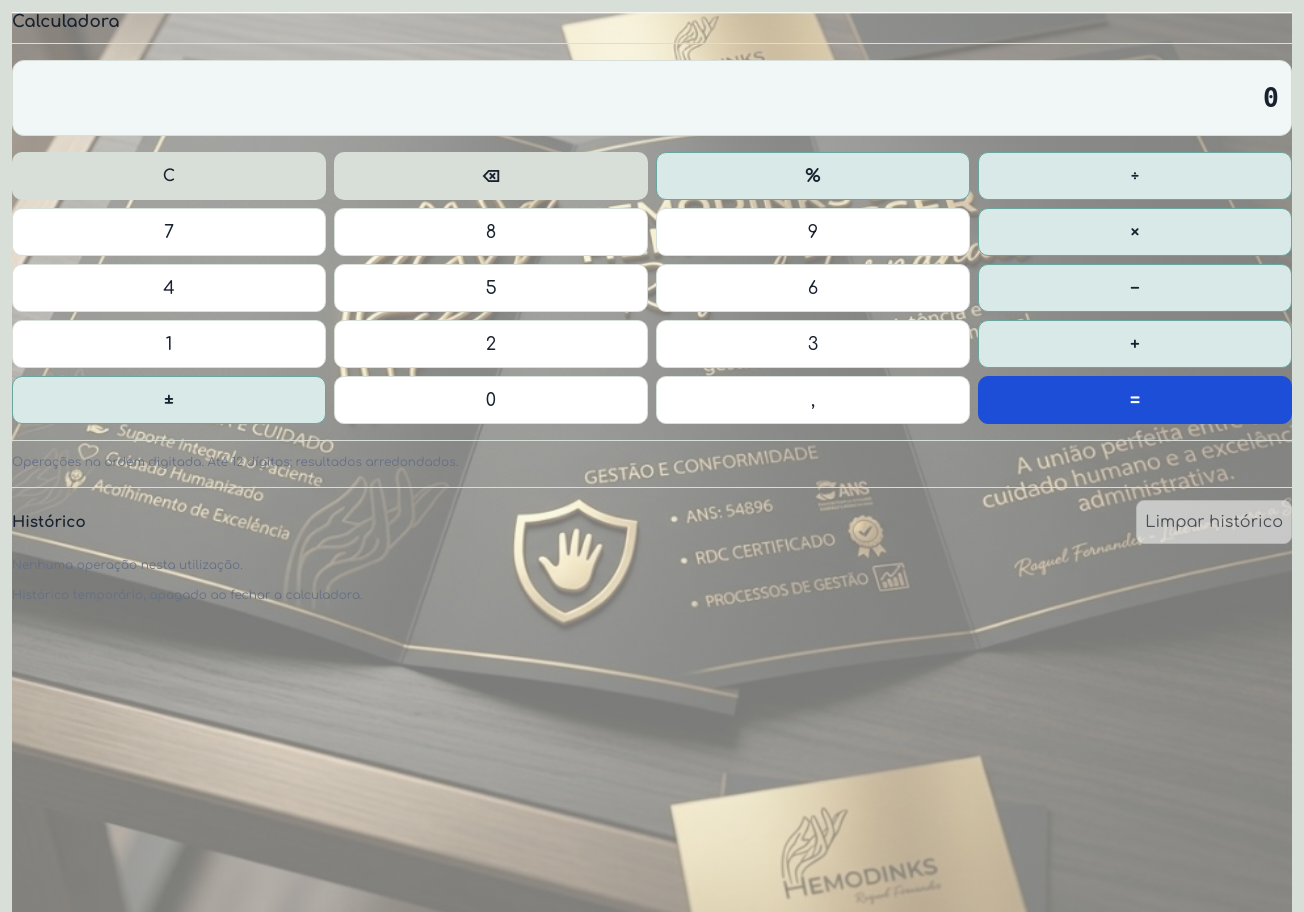
Test case: painel da calculadora › opera por botões e anuncia números com vírgula
The width and height of the screenshot is (1304, 912).
Click the button "1". click: [169, 344]
box: [12,320,326,368]
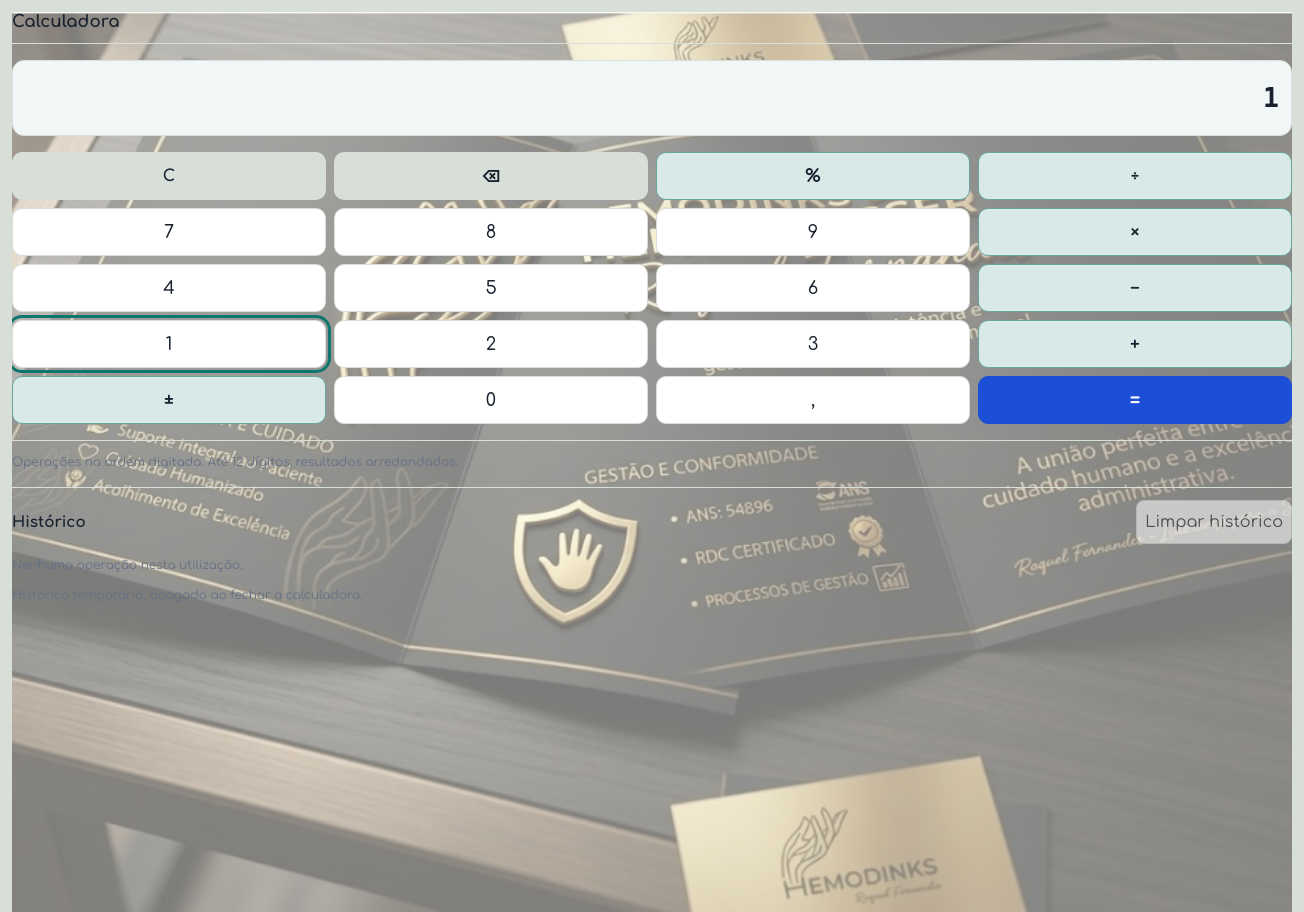
Click the button named "Dividir". click: [1135, 176]
box: [978,152,1292,200]
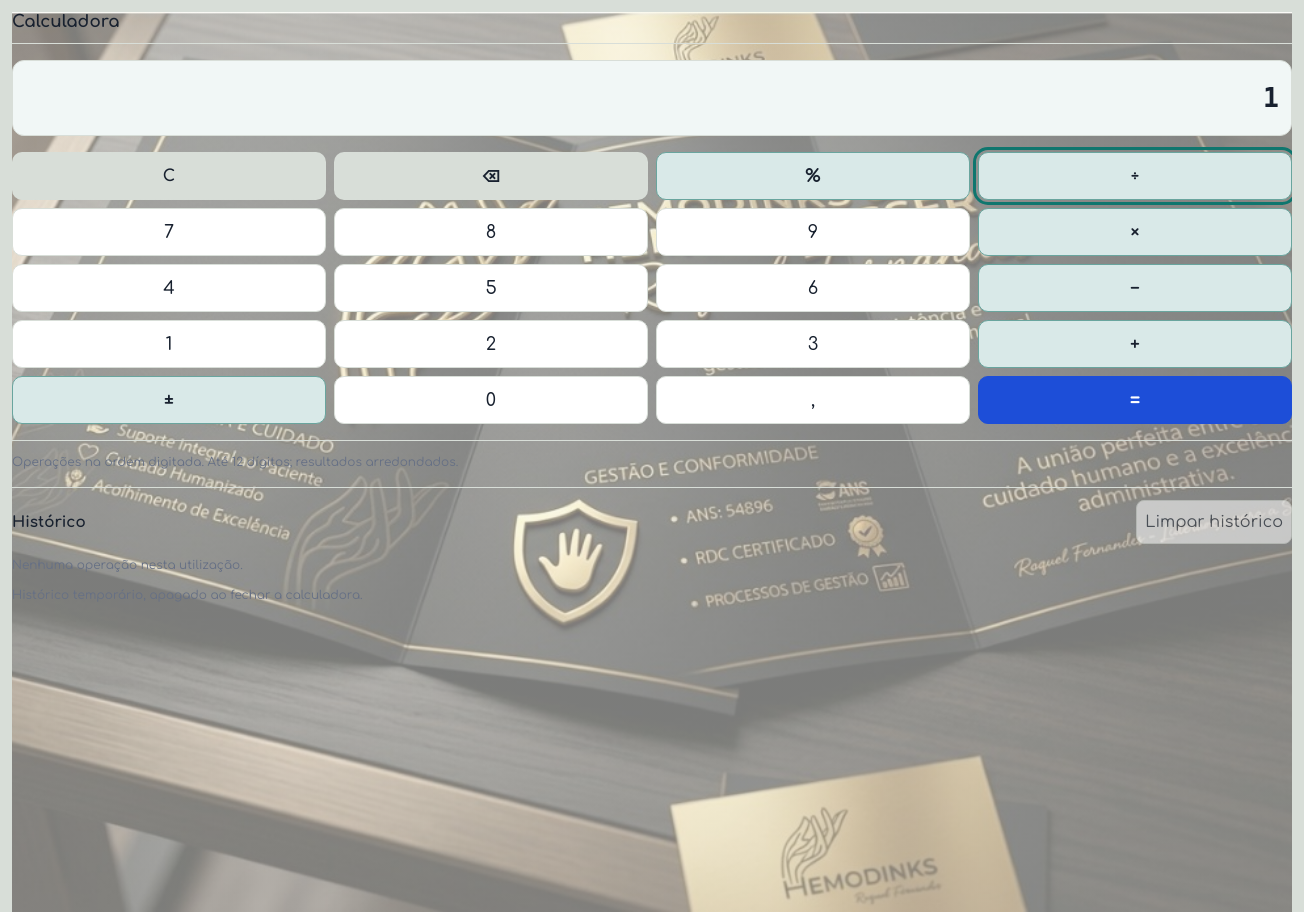
Click the button "2". click: [491, 344]
box: [334,320,648,368]
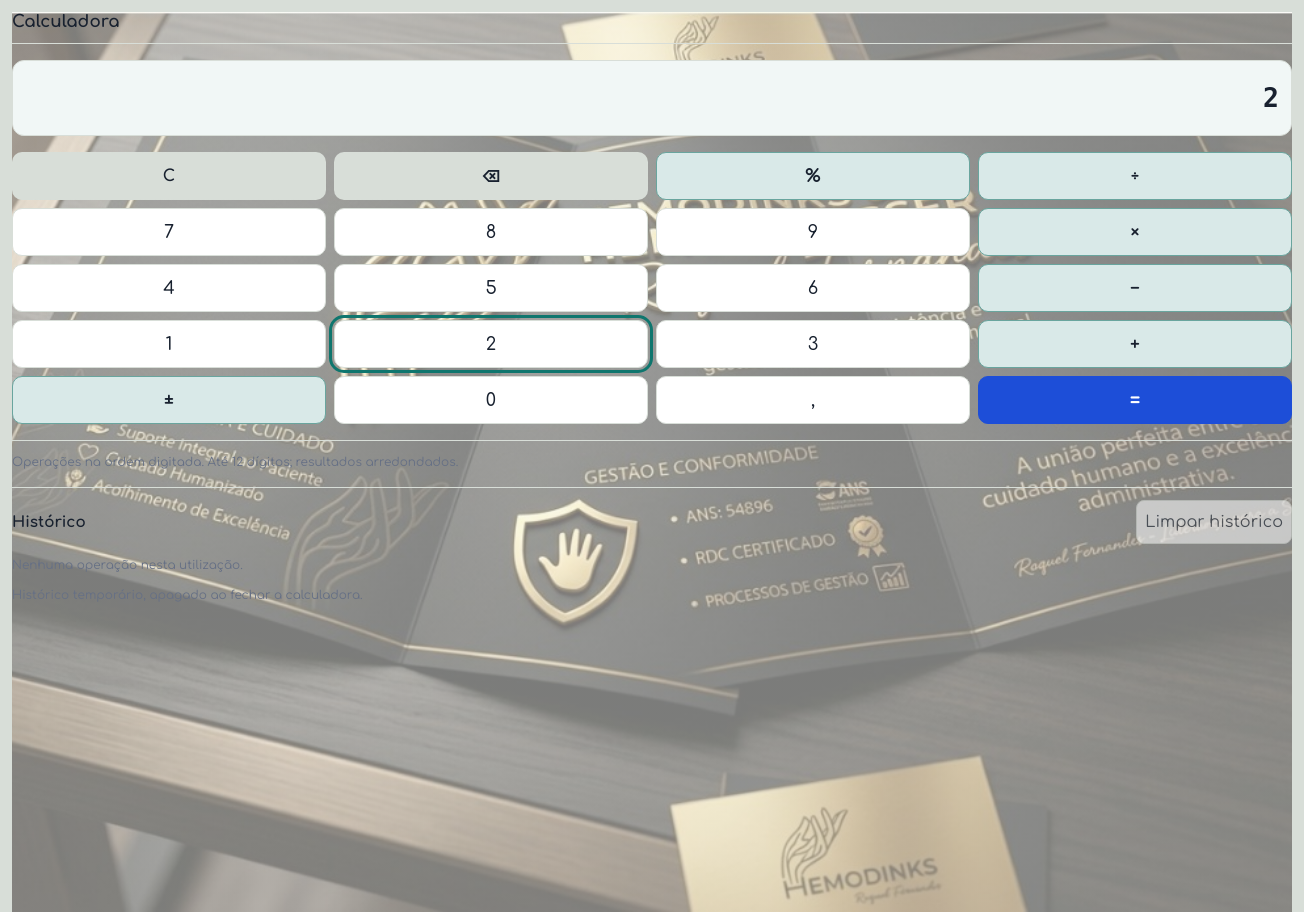
Click the button named "Igual". click: [1135, 400]
box: [978,376,1292,424]
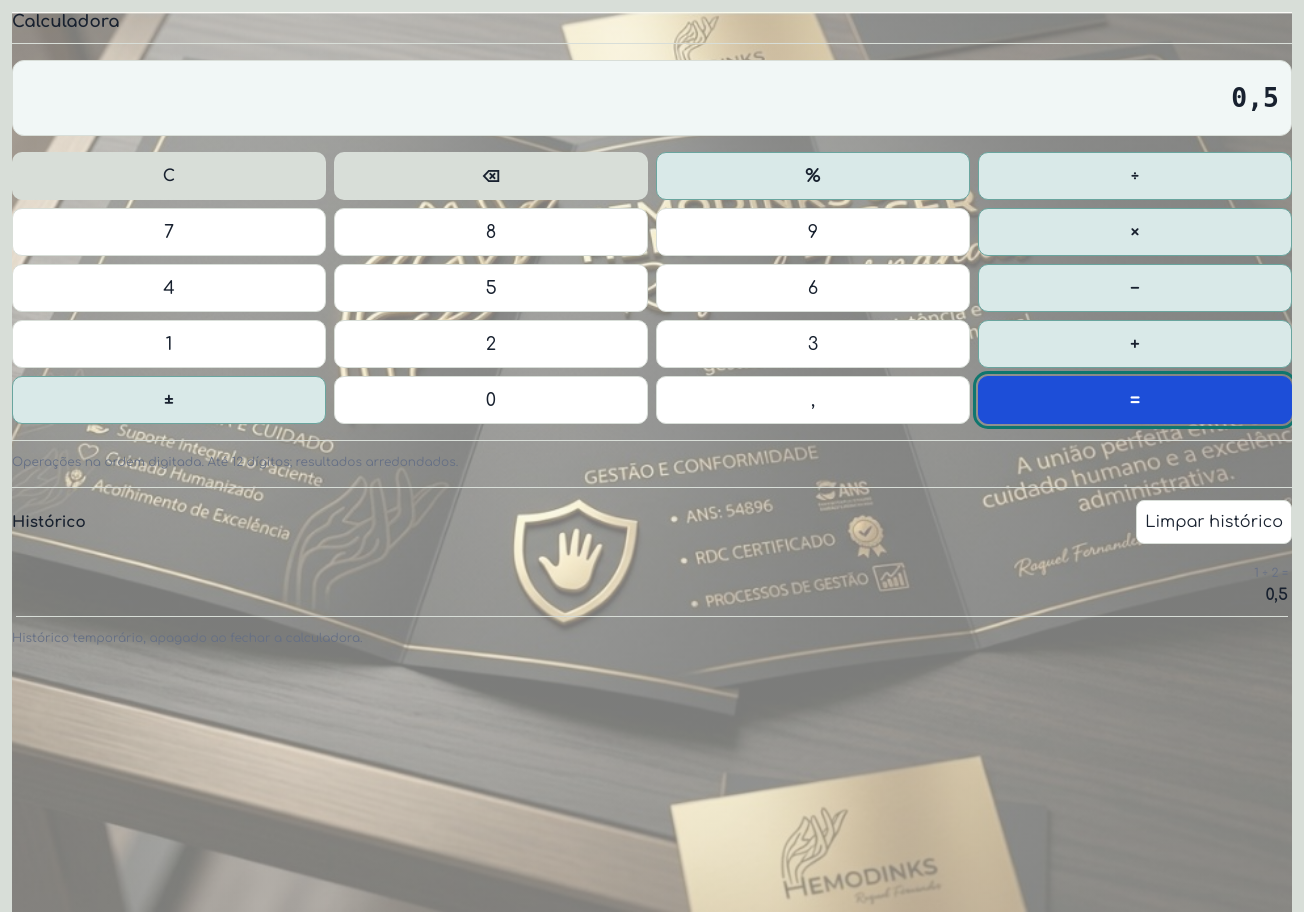
Now the text named "Resultado da calculadora" reads "0,5", box [1231,82,1279,113]
Click the button named "Limpar". click: [169, 176]
box: [12,152,326,200]
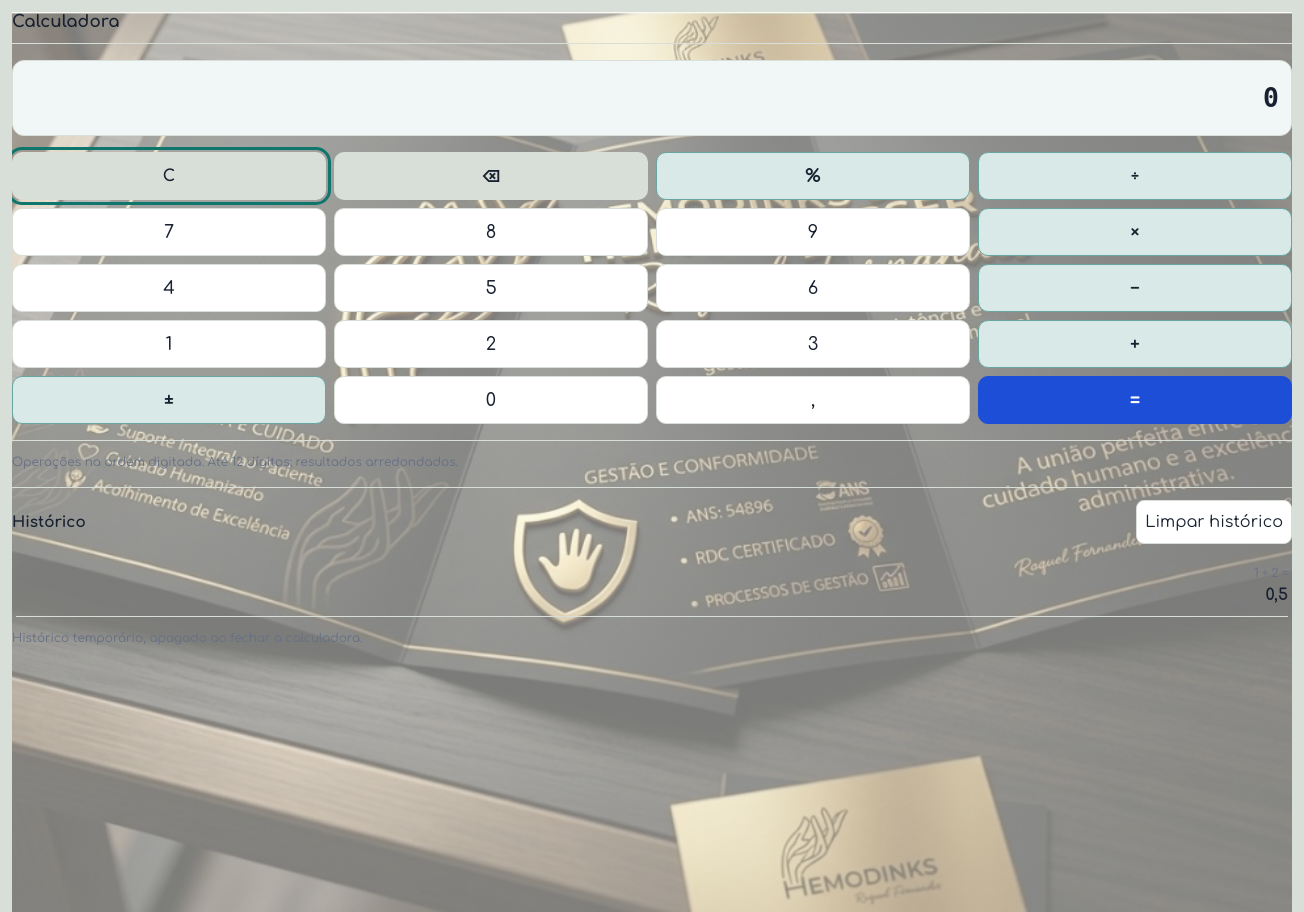
Now the text named "Resultado da calculadora" reads "0", box [1263,82,1279,113]
